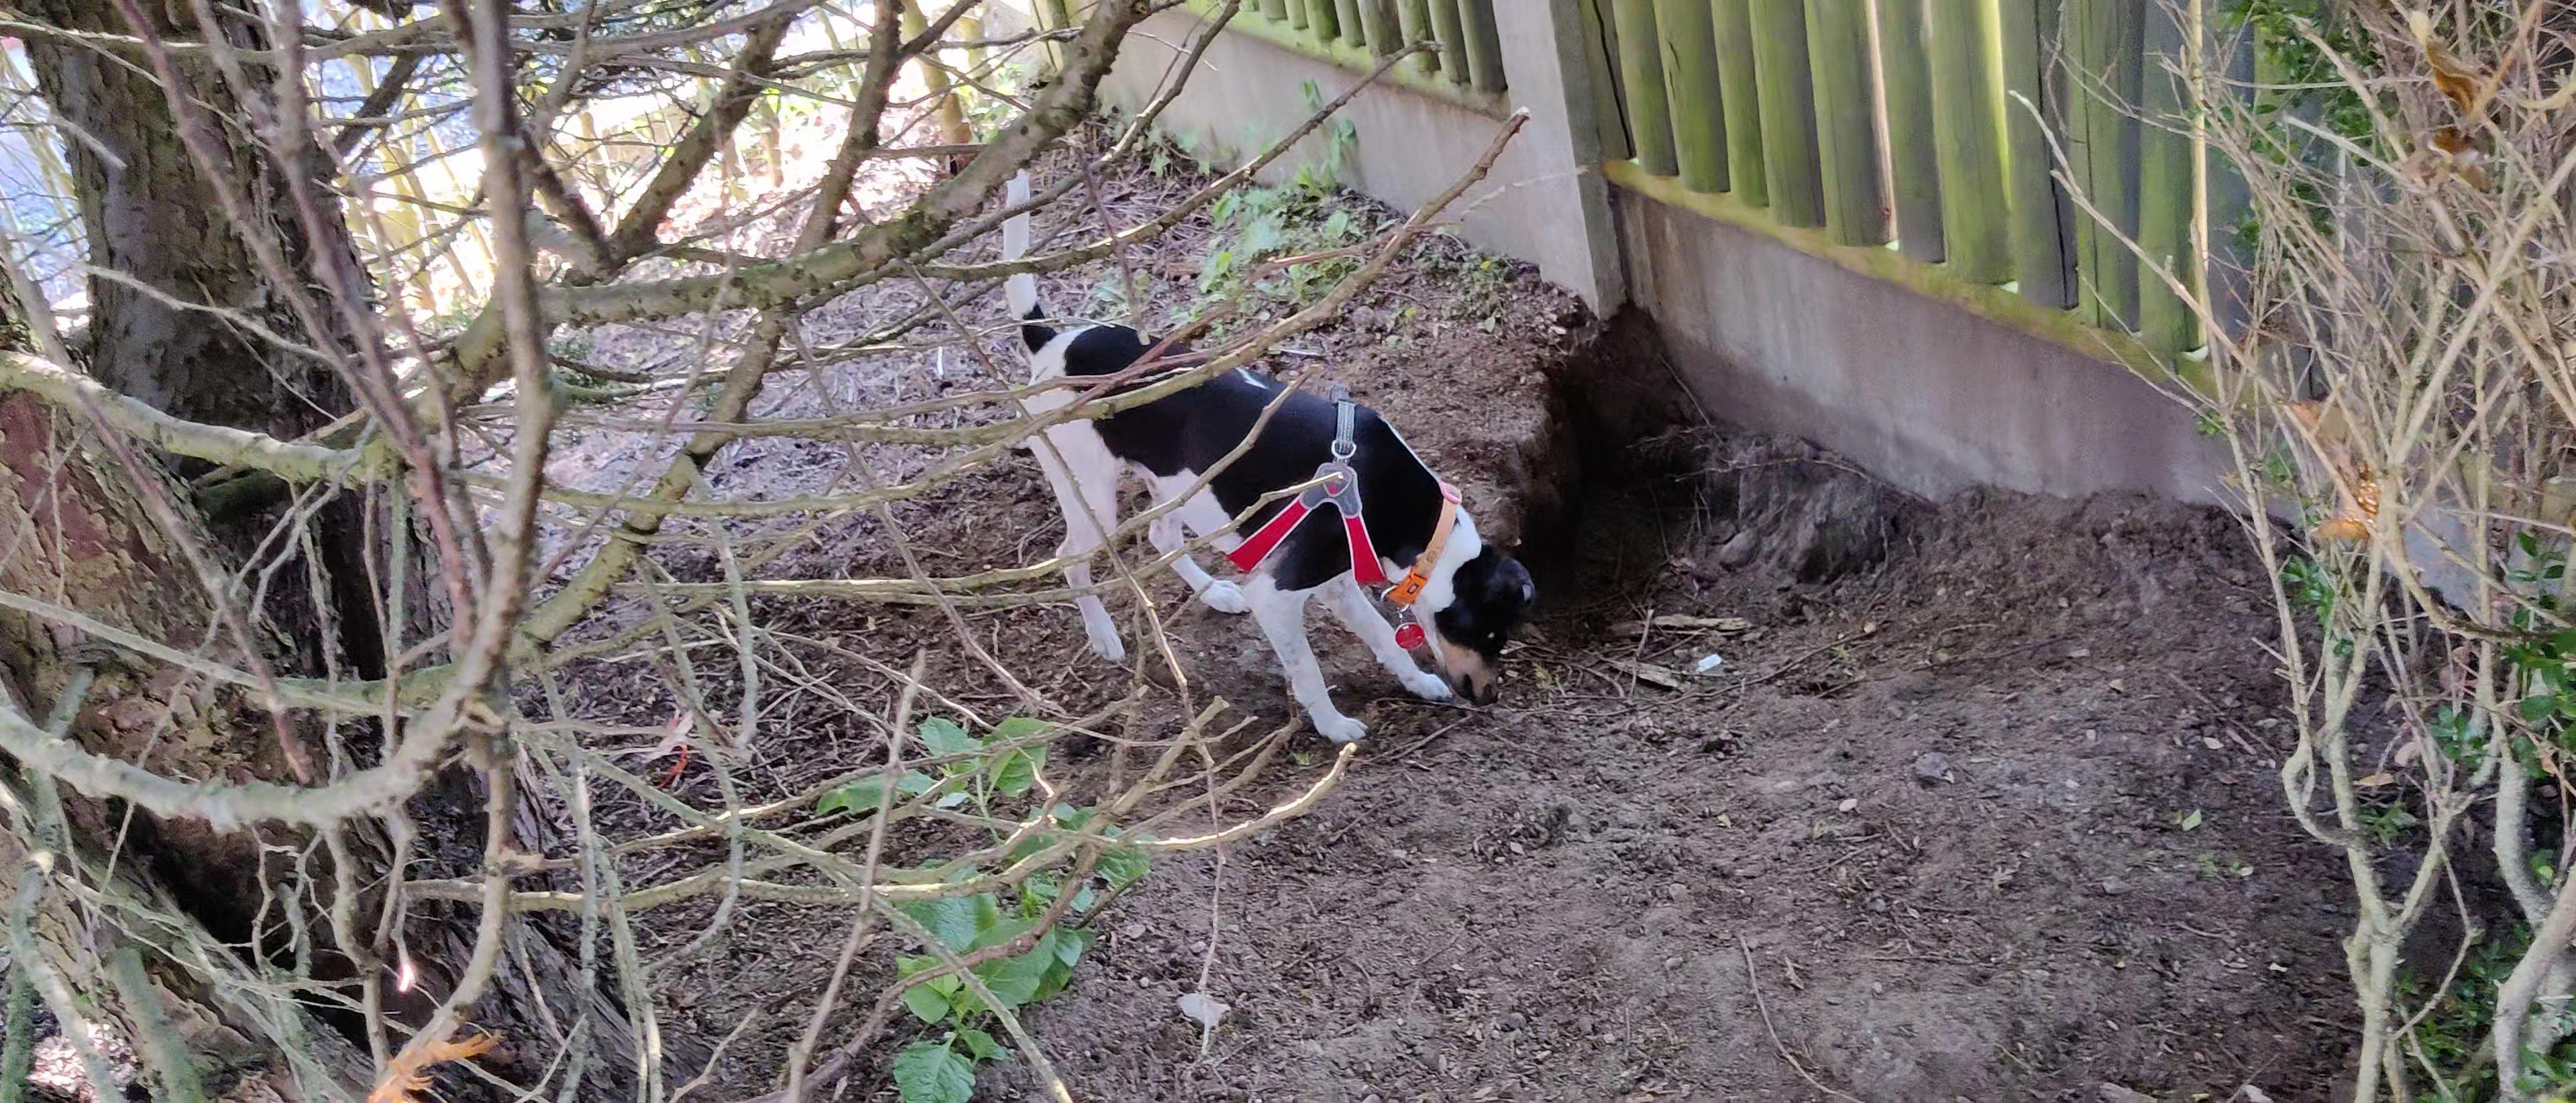Dog: (977, 148, 1548, 758)
